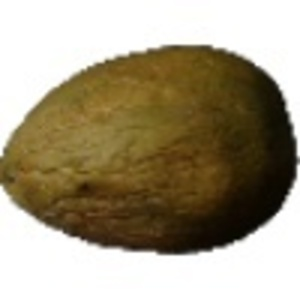mamão: (4, 36, 296, 255)
